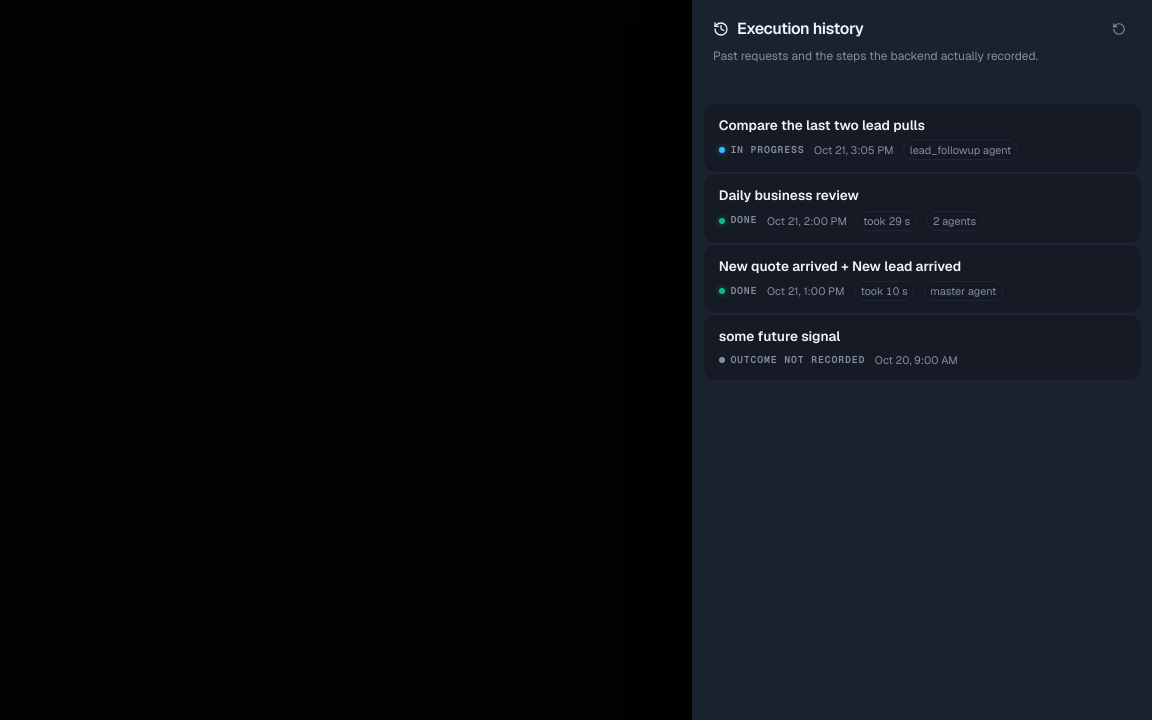
HistoryDrawer › reports only the duration, agents and failure kind the backend recorded
Expected: the text "Compare the last two lead pulls" is shown, x1=719 y1=116 x2=925 y2=135
Expected: the text "took 29 s" is shown, x1=857 y1=211 x2=917 y2=231
Click the button named "Reload execution history". click: [1119, 29]
box: x1=1106 y1=16 x2=1132 y2=42
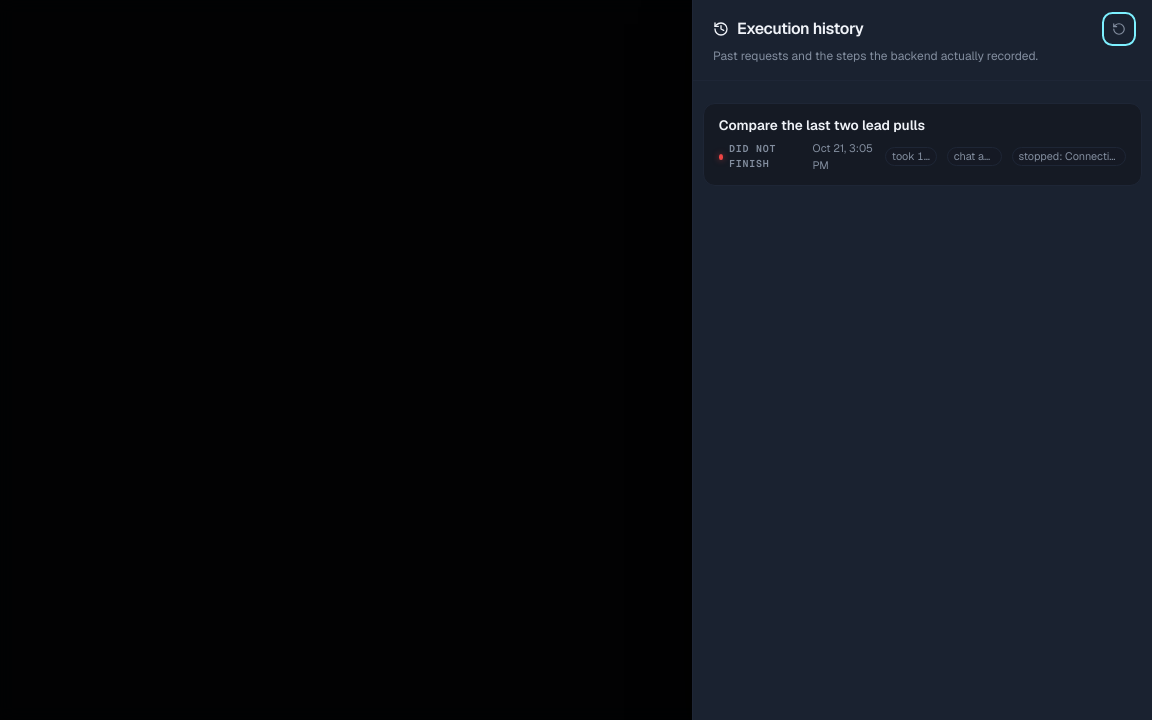
Expected: the text "stopped: ConnectionError" is shown, x1=1012 y1=147 x2=1126 y2=166
Expected: the text "took 1.5 s" is shown, x1=885 y1=147 x2=938 y2=166
Expected: the text "chat agent" is shown, x1=947 y1=147 x2=1002 y2=166
